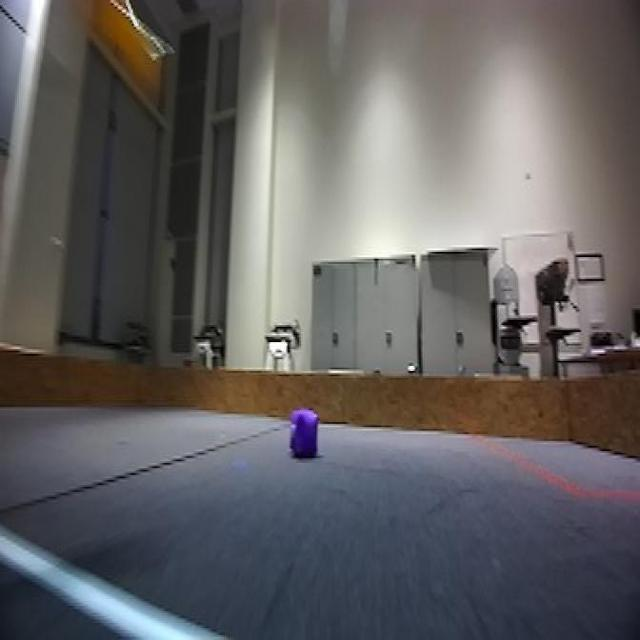frc_cone: (86, 7, 168, 109)
frc_cube: (288, 408, 322, 464)
